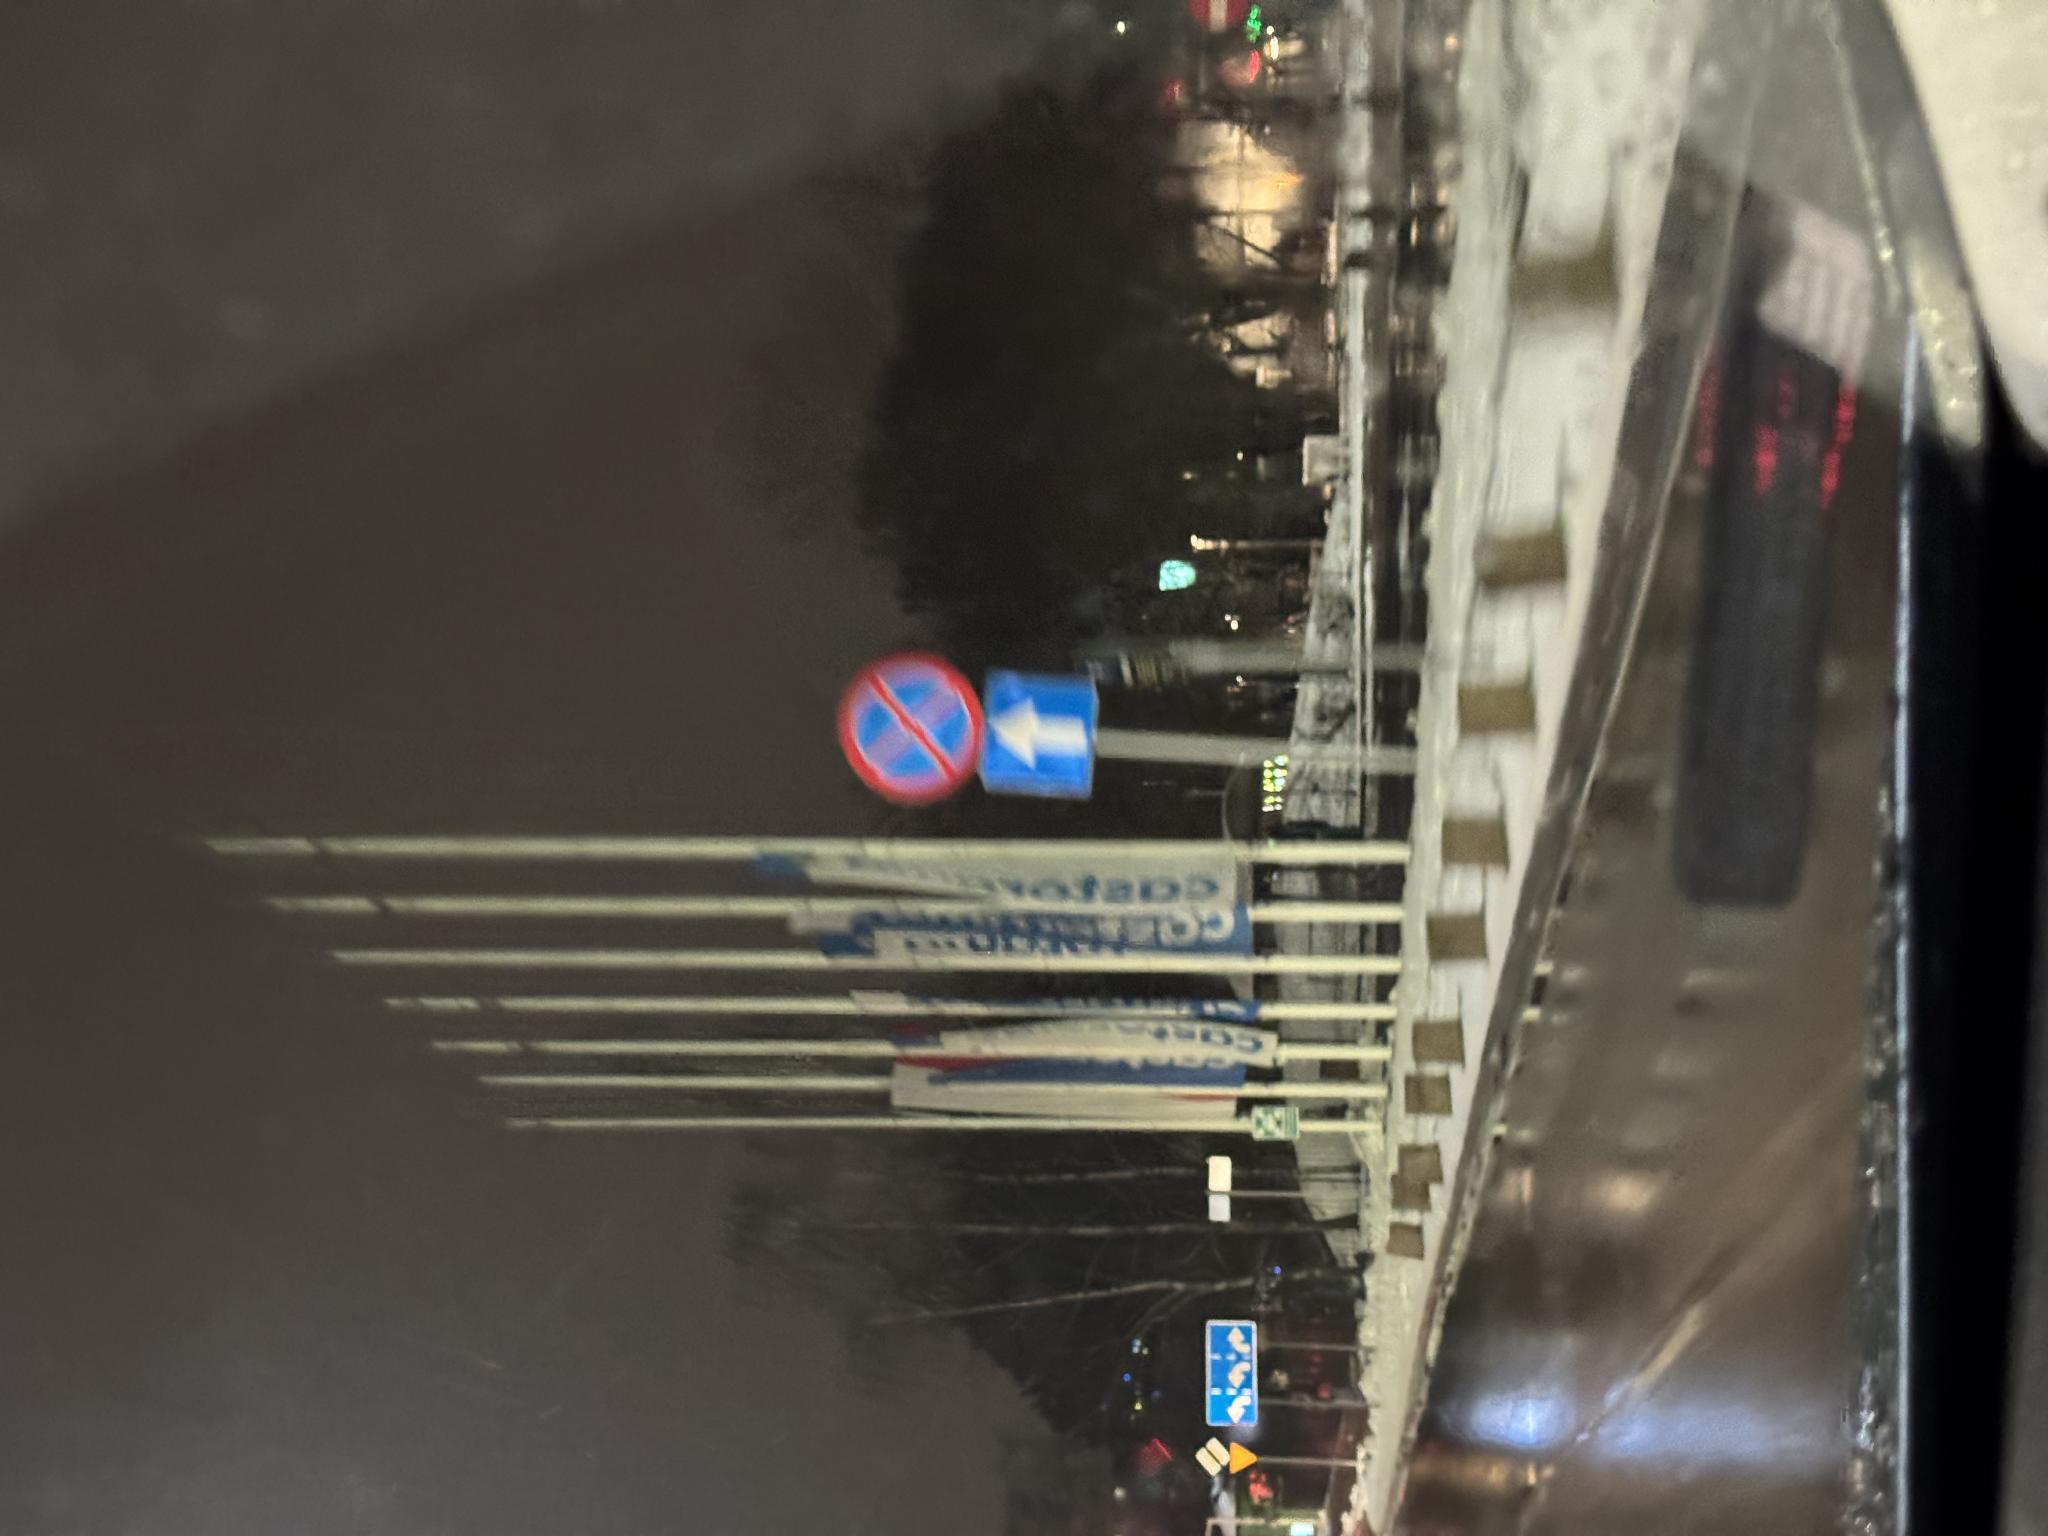information: (737, 981, 863, 1100), (60, 1192, 100, 1229)
other: (110, 1205, 221, 1257)
prohibitory: (735, 833, 885, 984)
warning: (61, 1229, 95, 1258)
